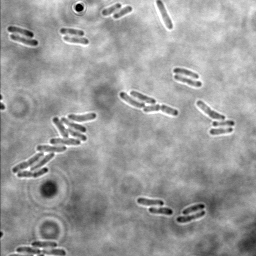Dividing: (194, 98, 227, 122), (142, 102, 180, 118), (15, 245, 67, 256), (172, 73, 203, 89), (175, 210, 208, 224)
Microcolony: (10, 111, 99, 180)
Rod: (155, 1, 174, 31), (118, 90, 146, 110), (128, 89, 157, 106), (8, 33, 39, 48), (7, 24, 34, 40), (172, 66, 200, 81), (100, 2, 123, 18), (111, 5, 134, 20), (180, 202, 206, 215), (61, 34, 89, 46), (58, 26, 85, 38), (147, 205, 174, 217), (136, 196, 164, 207), (208, 126, 235, 137), (30, 239, 58, 249), (211, 119, 237, 128)
